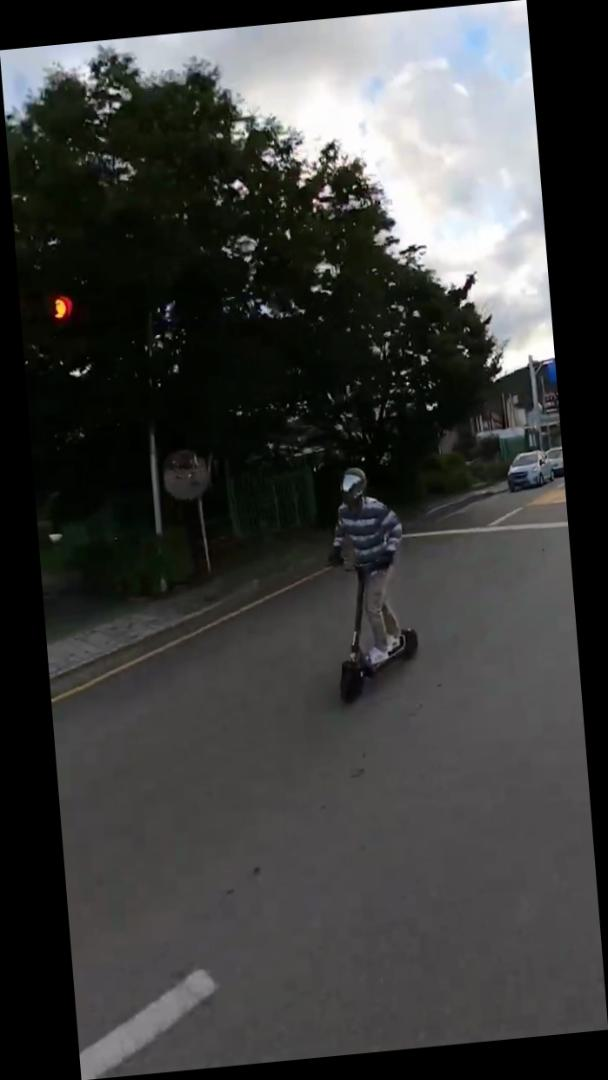helmet: (316, 460, 424, 708)
